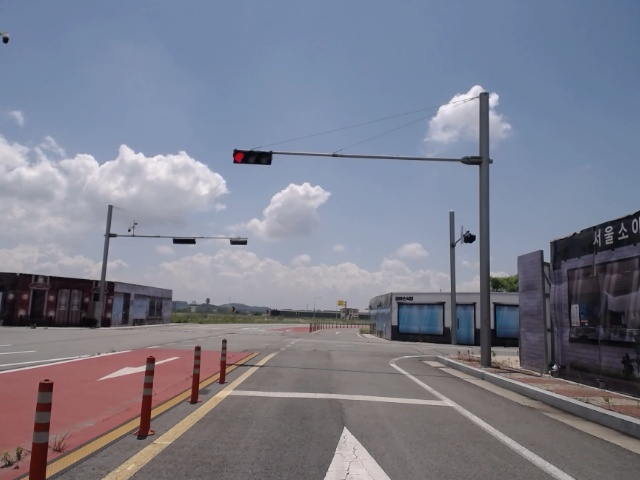red_3: (229, 150, 271, 165)
